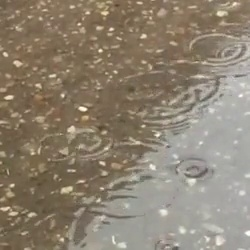drop: (89, 142, 184, 219), (117, 71, 207, 133), (154, 60, 218, 103), (190, 33, 246, 66), (66, 125, 114, 158), (40, 133, 77, 162), (176, 157, 208, 179), (210, 1, 235, 10), (156, 240, 178, 250)
